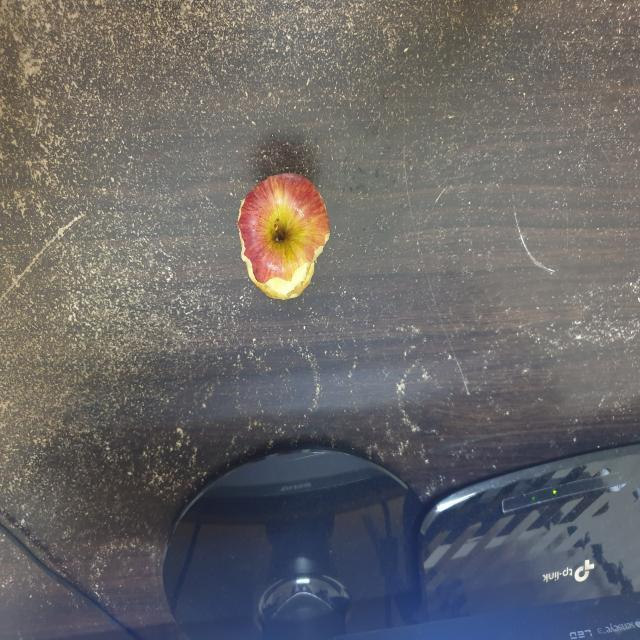apple: (234, 162, 336, 300)
